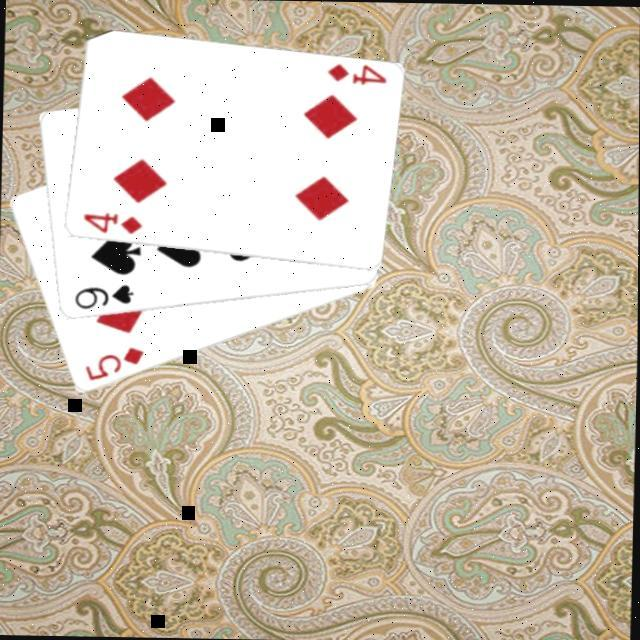4D: (322, 60, 388, 90), (77, 210, 143, 239)
5D: (80, 344, 146, 386)
9S: (69, 281, 136, 314)
